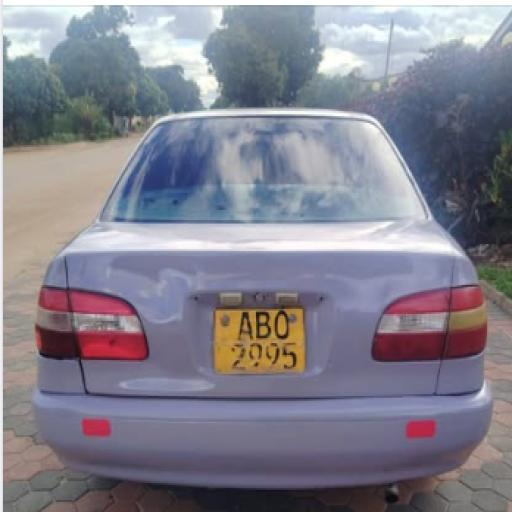number-plates: (215, 309, 299, 373)
